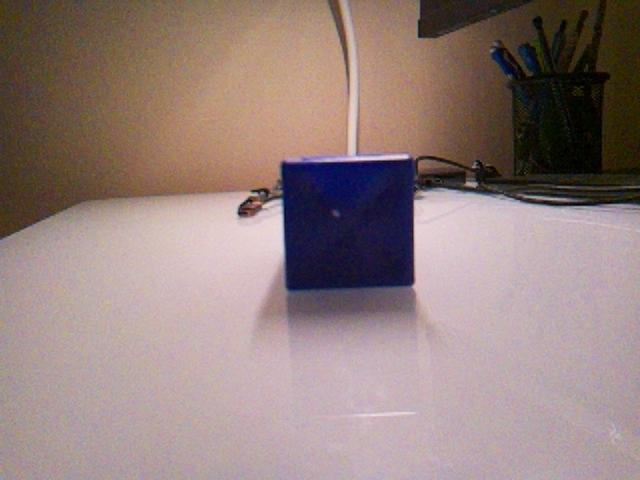blue: (279, 152, 417, 291)
